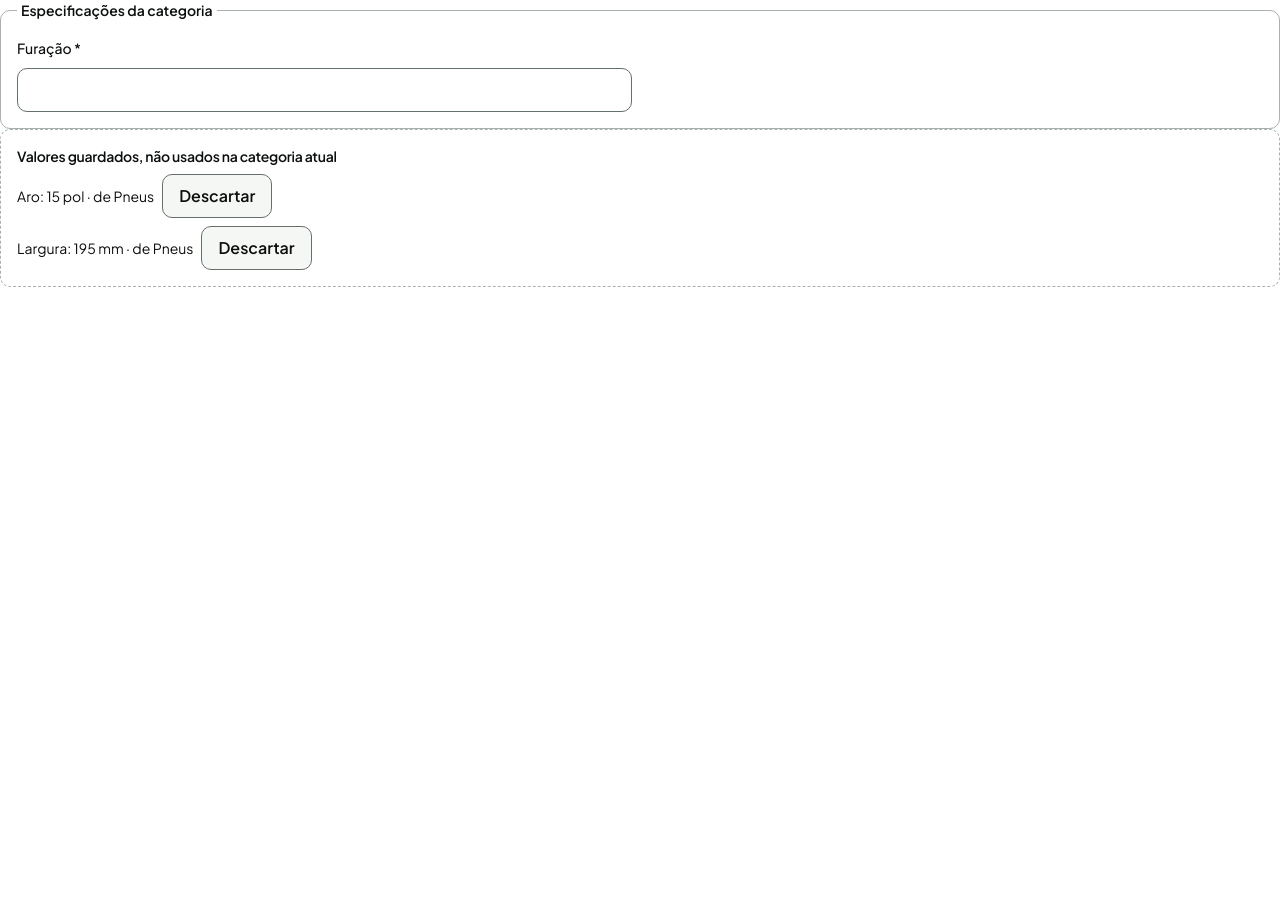
Test: o produto que mudou de categoria (AC-329) › @spec:AC-329 os valores guardados aparecem com a categoria de onde vieram, e o descarte só vale confirmado
This screenshot has width=1280, height=900.
Expected: the text "Aro: 15 pol · de Pneus" is shown, [0,129,1279,287]
Expected: the text "Largura: 195 mm · de Pneus" is shown, [0,129,1279,287]
Click the button "Descartar" in the row of "Aro" at (217, 196), box [162,174,272,218]
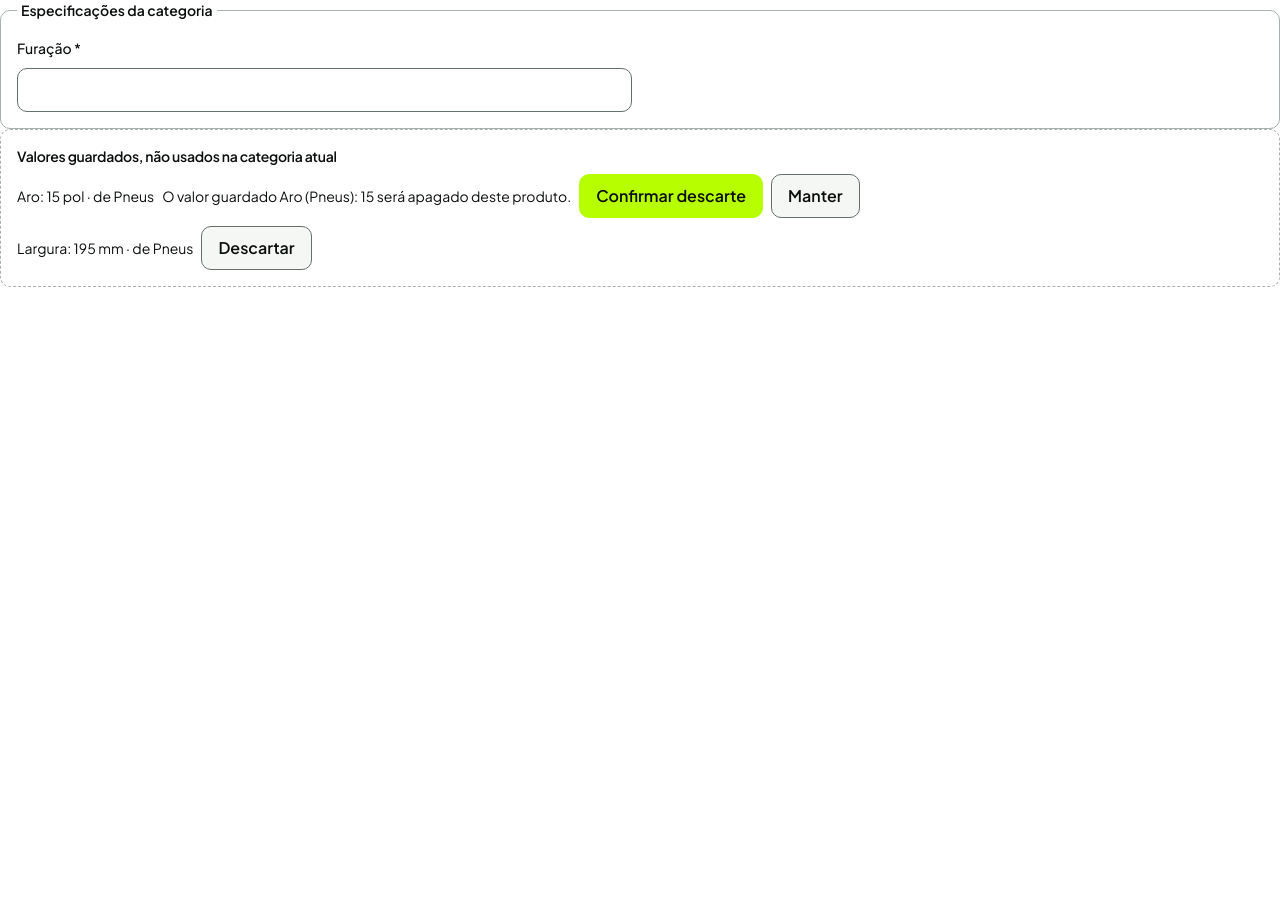
Expected: the text "Aro: 15" is shown, [0,129,1279,287]
Expected: the dialog shows "O valor guardado Aro (Pneus): 15 será apagado deste produto.", [162,187,571,205]
Click the button "Confirmar descarte" at (671, 196), box [579,174,763,218]
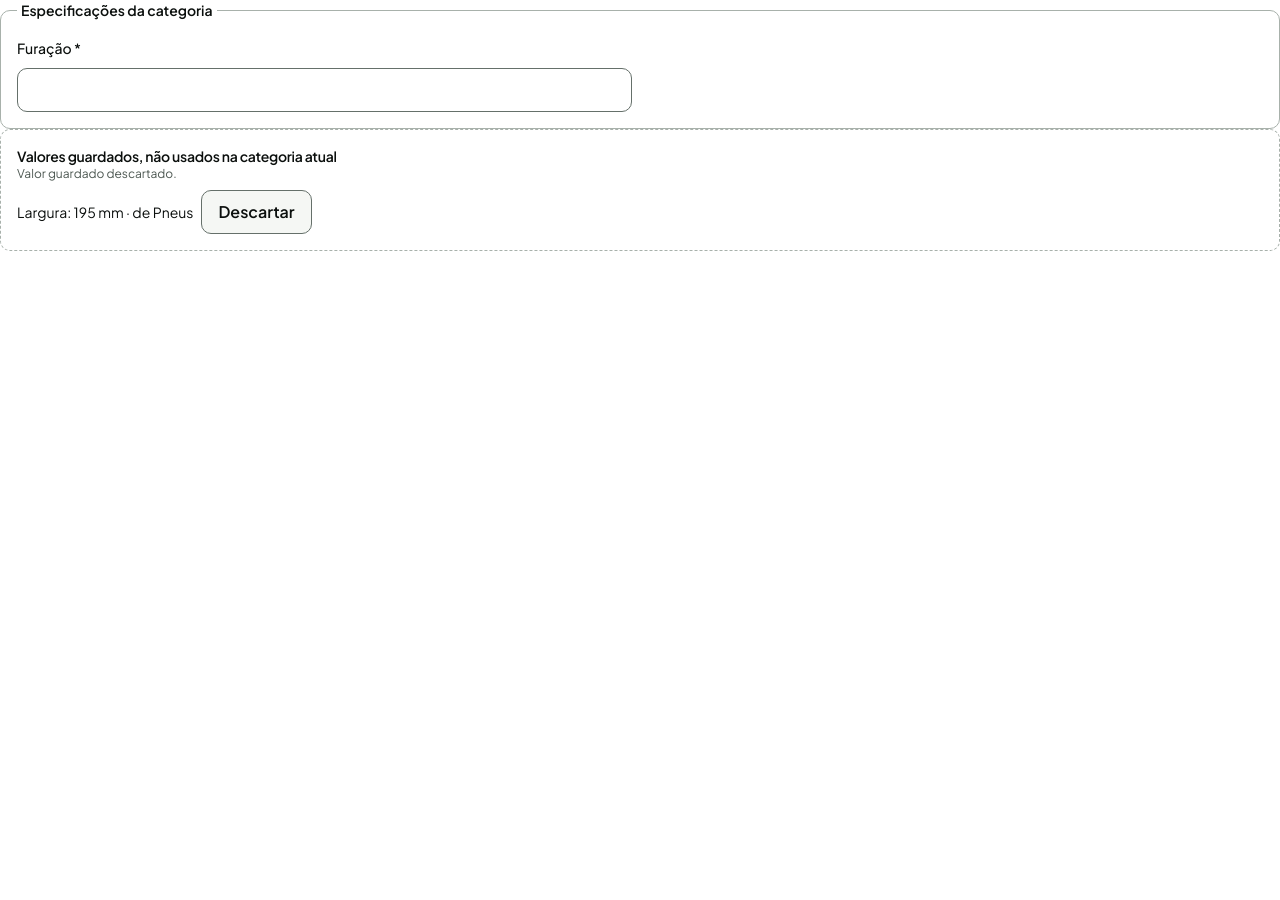
Expected: the text "Largura: 195" is shown, [0,129,1279,251]
Expected: the text "Aro: 15" is gone
